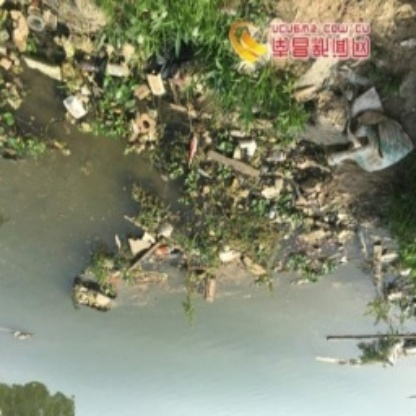branch: (324, 327, 414, 349)
